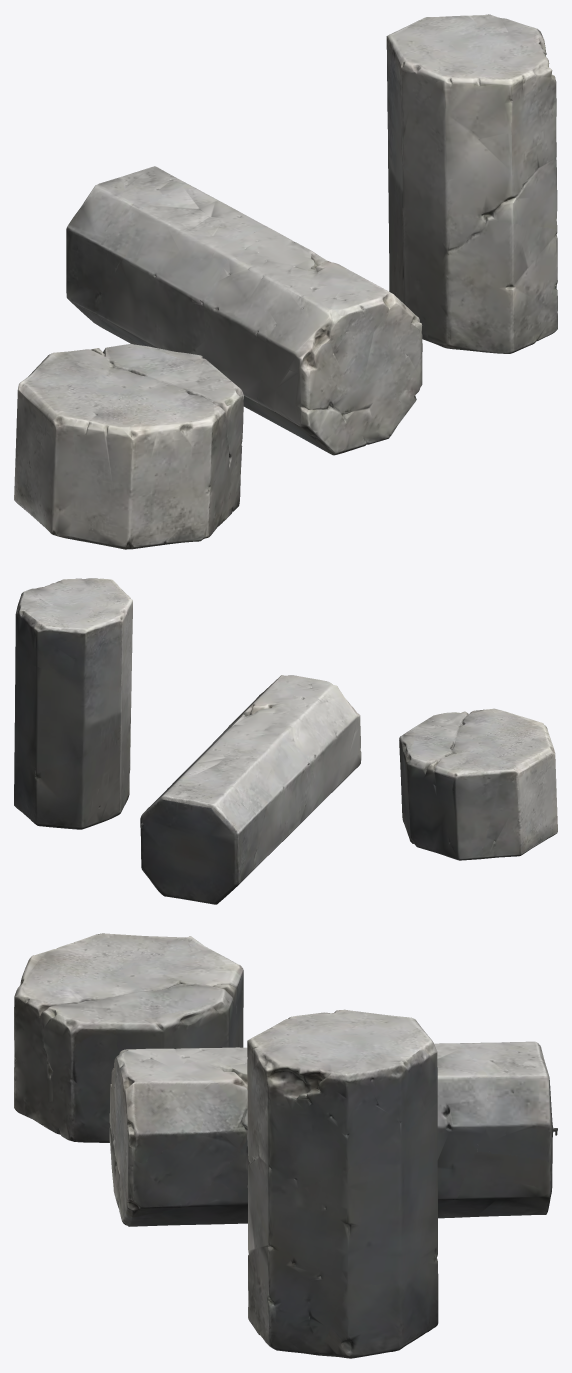
The model's file is bloques.glb.
The picture shows the model from 3 angles, top to bottom: view 1: azimuth 30°, elevation 25°; view 2: azimuth 150°, elevation 25°; view 3: azimuth 270°, elevation 25°; orthographic projection. The views are drawn at different scales.
Visible parts, largest first — view 1: tripo_node_8f7bcb60-20a6-48f3-acee-699330b2a5c0; view 2: tripo_node_8f7bcb60-20a6-48f3-acee-699330b2a5c0; view 3: tripo_node_8f7bcb60-20a6-48f3-acee-699330b2a5c0.
Boxes of the visible parts, <box> form: tripo_node_8f7bcb60-20a6-48f3-acee-699330b2a5c0: <box>14,14,557,549</box>; tripo_node_8f7bcb60-20a6-48f3-acee-699330b2a5c0: <box>14,578,557,904</box>; tripo_node_8f7bcb60-20a6-48f3-acee-699330b2a5c0: <box>14,933,557,1358</box>.
Bounding box in the file's own units: 0.9999 × 0.4319 × 0.7439.
Materials: 1 (1 with a texture image).
